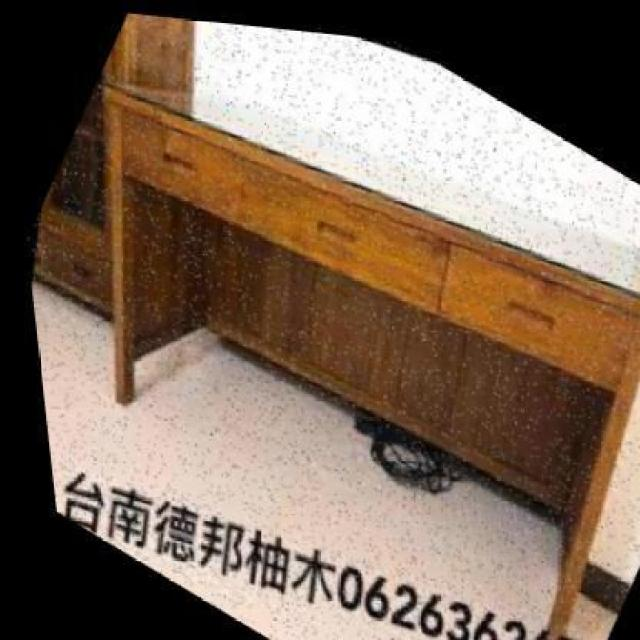tables: (31, 9, 638, 638)
